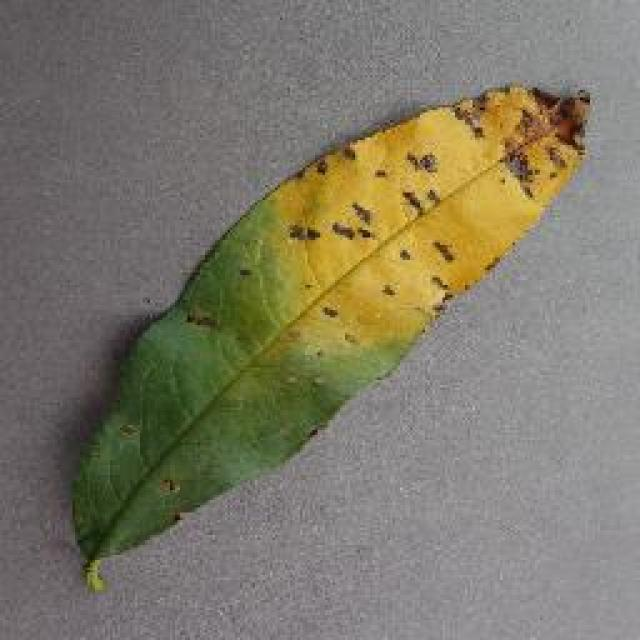Bacterial_spot: (328, 194, 384, 250), (299, 132, 367, 176), (395, 181, 463, 220), (402, 136, 452, 179), (280, 212, 328, 252), (426, 232, 467, 267), (371, 280, 406, 305), (309, 298, 345, 321), (424, 270, 460, 290), (338, 328, 366, 350), (394, 243, 415, 267)
